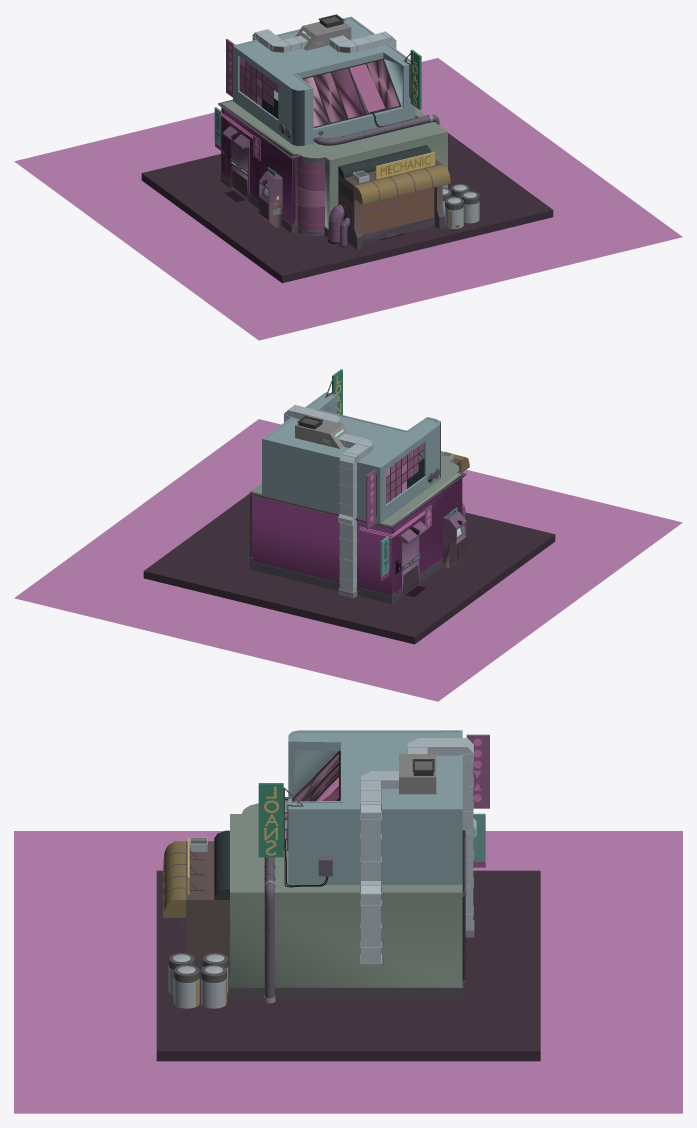
The model's file is building1.fbx.
The picture shows the model from 3 angles, top to bottom: view 1: azimuth 30°, elevation 25°; view 2: azimuth 150°, elevation 25°; view 3: azimuth 270°, elevation 25°; orthographic projection. The views are drawn at different scales.
Parts seen in each view (by area): view 1: Plane.004; view 2: Plane.004; view 3: Plane.004.
Boxes of the visible parts, left/top/right/bottom form: Plane.004: left=14, top=14, right=682, bottom=340; Plane.004: left=14, top=369, right=682, bottom=701; Plane.004: left=14, top=730, right=682, bottom=1113.
Bounding box in the file's own units: 3000 × 1063 × 3000.
